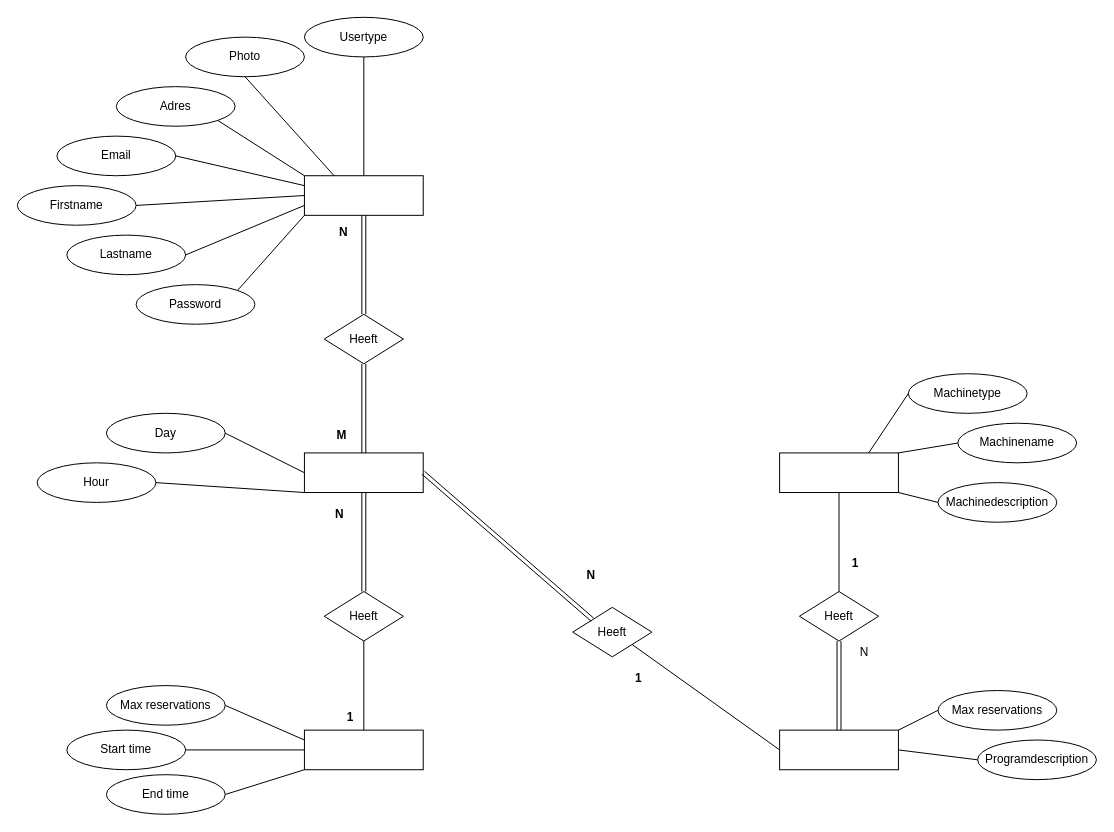
The diagram is 1114 pixels wide and 832 high, and some of its shapes have lost their labels. Here are the shapes that lost their labels. From the top down, the centre of each, then its label:
the point at 363,195: User
the point at 363,472: Reservation
the point at 838,472: Machine
the point at 363,749: Timeslot
the point at 838,749: Program
